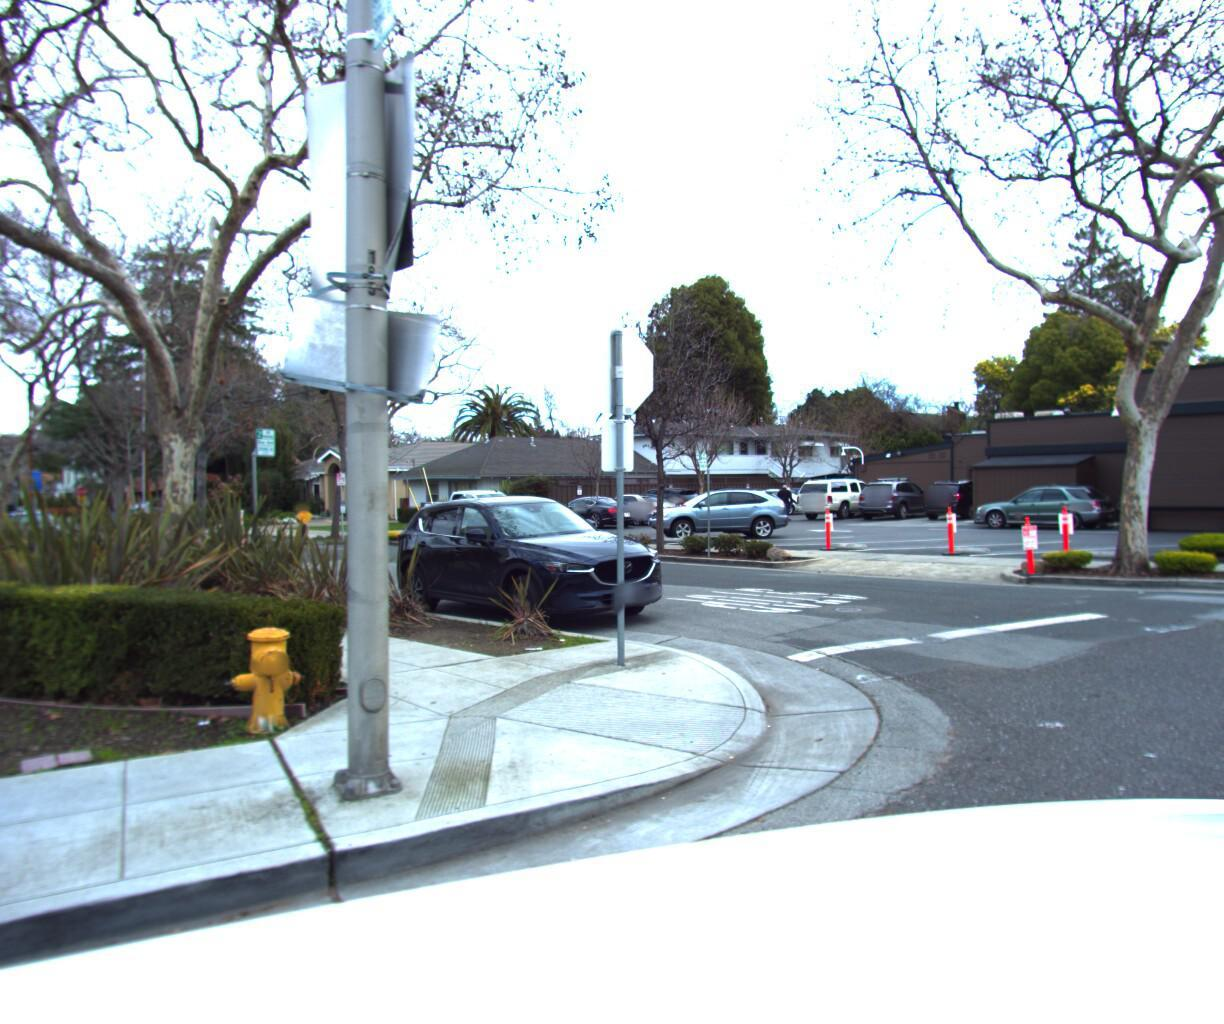car: (386, 490, 694, 651), (642, 487, 798, 544), (421, 491, 544, 543), (544, 497, 646, 536)
